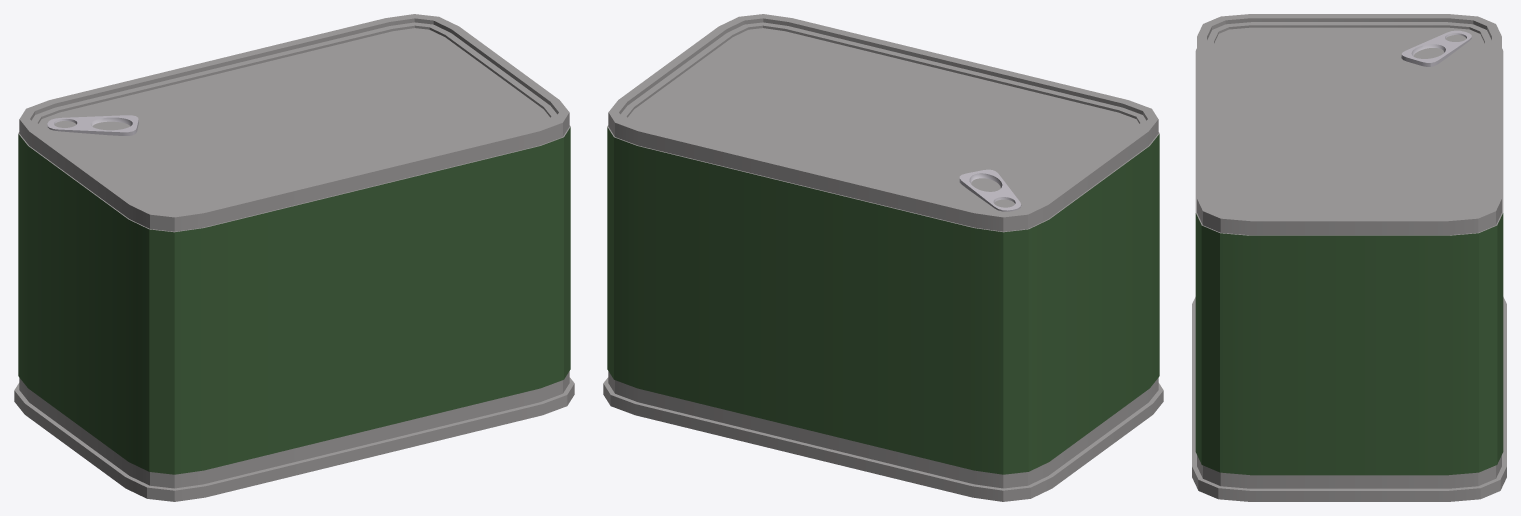
File: P_boite_conserve_1_V2.fbx
The picture shows the model from 3 angles, left to right: view 1: azimuth 30°, elevation 25°; view 2: azimuth 150°, elevation 25°; view 3: azimuth 270°, elevation 25°; orthographic projection.
Visible parts, largest first — view 1: Box001; view 2: Box001; view 3: Box001.
Part boxes in pixels (bbox=[...]): Box001: bbox=[14, 14, 574, 501]; Box001: bbox=[603, 14, 1163, 501]; Box001: bbox=[1192, 14, 1506, 501].
Bounding box in the file's own units: 21.48 × 13.21 × 13.52.
1 material, 1 textured.
